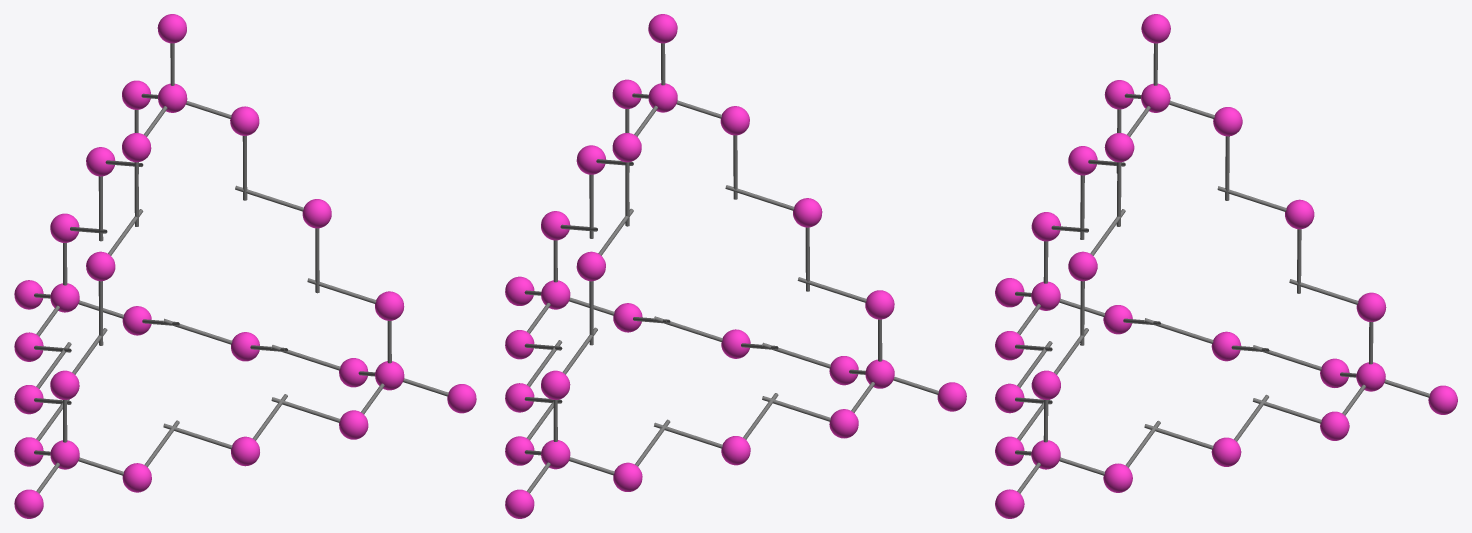
3 views of the same model, side by side, from view 1: azimuth 30°, elevation 25°; view 2: azimuth 150°, elevation 25°; view 3: azimuth 270°, elevation 25° (orthographic).
Parts seen in each view (by area): view 1: group98 other pSphere38, group98 other pSphere31, group98 other pSphere39, group98 other pSphere42, group98 other pSphere33, group98 other pSphere37, group98 other pSphere43, group98 other pSphere29, group98 other pSphere34, group98 other pSphere35, group98 other pSphere44, group98 other pSphere23 (+14 smaller); view 2: group98 other pSphere35, pSphere13 group98 other, group98 other pSphere18, group98 other pSphere32, group98 other pSphere36, group98 other pSphere39, group98 other pSphere38, group98 other pSphere46, group98 other pSphere34, group98 other pSphere31, group98 other pSphere48, group98 other pSphere49 (+14 smaller); view 3: group98 other pSphere42, group98 other pSphere33, group98 other pSphere35, group98 other pSphere32, group98 other pSphere46, group98 other pSphere47, group98 other pSphere44, group98 other pSphere49, pSphere13 group98 other, group98 other pSphere29, group98 other pSphere41, group98 other pSphere27 (+14 smaller).
Boxes of the visible parts, x1,y1,x2,y2 form: group98 other pSphere38: (14,489,43,518); group98 other pSphere31: (86,251,115,281); group98 other pSphere39: (50,370,79,399); group98 other pSphere42: (447,384,476,413); group98 other pSphere33: (230,106,259,135); group98 other pSphere37: (122,463,151,492); group98 other pSphere43: (339,410,368,439); group98 other pSphere29: (302,199,331,228); group98 other pSphere34: (122,133,151,162); group98 other pSphere35: (157,14,186,43); group98 other pSphere44: (375,291,404,320); group98 other pSphere23: (231,436,259,466); group98 other pSphere35: (648,14,677,43); pSphere13 group98 other: (576,251,605,281); group98 other pSphere18: (721,436,750,465); group98 other pSphere32: (612,133,641,162); group98 other pSphere36: (829,409,858,438); group98 other pSphere39: (865,290,894,319); group98 other pSphere38: (937,382,966,411); group98 other pSphere46: (505,489,534,518); group98 other pSphere34: (720,106,749,135); group98 other pSphere31: (793,198,822,227); group98 other pSphere48: (613,462,642,491); group98 other pSphere49: (541,370,570,399); group98 other pSphere42: (995,489,1024,518); group98 other pSphere33: (1104,133,1134,162); group98 other pSphere35: (1141,14,1170,43); group98 other pSphere32: (1213,107,1242,136); group98 other pSphere46: (1428,385,1457,414); group98 other pSphere47: (1320,411,1349,440); group98 other pSphere44: (1031,370,1060,399); group98 other pSphere49: (1356,292,1386,321); pSphere13 group98 other: (1285,199,1314,229); group98 other pSphere29: (1068,251,1097,281); group98 other pSphere41: (1103,463,1132,492); group98 other pSphere27: (1211,437,1241,466).
Bounding box in the file's own units: 137 × 114 × 120.
